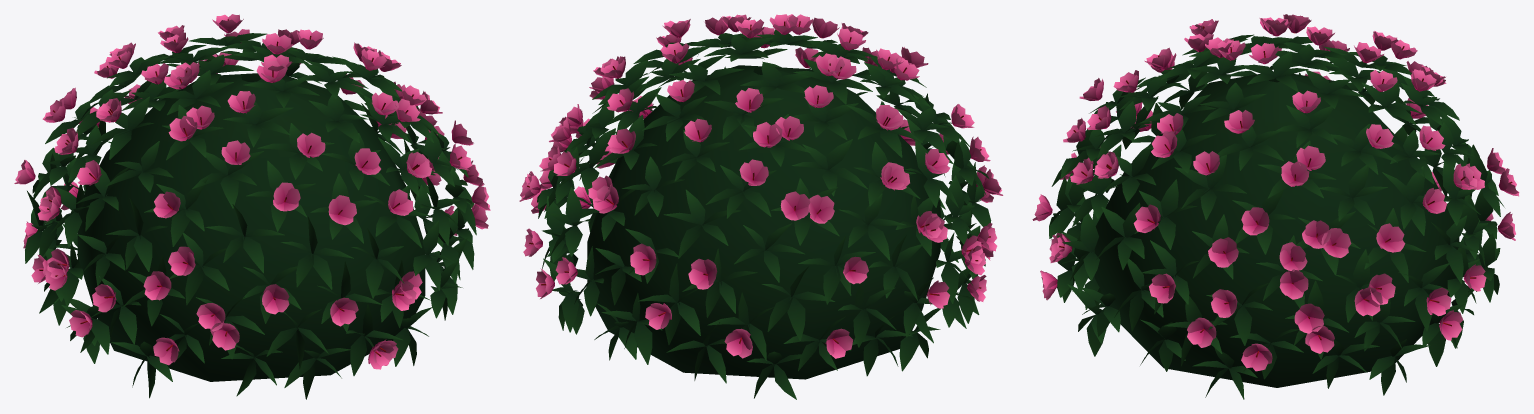
Rendered from treeKitsuneAzalea.fbx.
3 views of the same model, side by side, from view 1: azimuth 30°, elevation 25°; view 2: azimuth 150°, elevation 25°; view 3: azimuth 270°, elevation 25° (orthographic).
Visible parts, largest first — view 1: treeKitsuneAzalea; view 2: treeKitsuneAzalea; view 3: treeKitsuneAzalea.
Boxes of the visible parts, box(x1,y1,x2,y2) form: treeKitsuneAzalea: box(14, 14, 490, 399); treeKitsuneAzalea: box(519, 14, 1003, 399); treeKitsuneAzalea: box(1032, 14, 1519, 399).
Bounding box in the file's own units: 0.8942 × 0.595 × 0.8978.
1 material, 1 textured.
